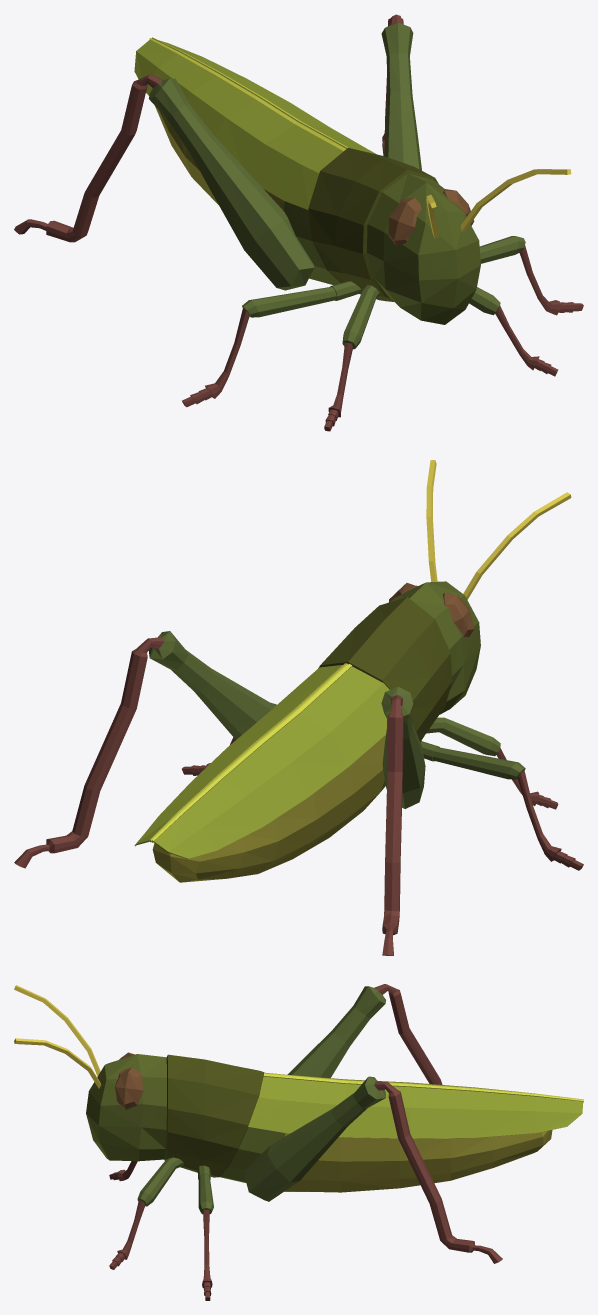
The model's file is grasshopper.gltf.
3 renders of one model, top to bottom at view 1: azimuth 30°, elevation 25°; view 2: azimuth 150°, elevation 25°; view 3: azimuth 270°, elevation 25°, orthographic. The views are drawn at different scales.
Parts seen in each view (by area): view 1: node-0; view 2: node-0; view 3: node-0.
Boxes of the visible parts, bbox=[...] form: node-0: bbox=[14, 14, 583, 431]; node-0: bbox=[14, 460, 583, 955]; node-0: bbox=[14, 984, 583, 1300].
Size of the model in its own units: 1.06 by 0.6643 by 1.62.
